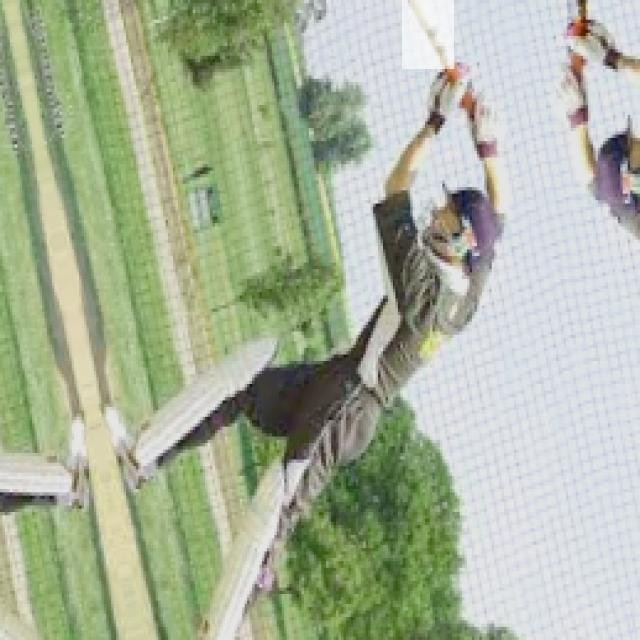bat: (401, 1, 452, 70)
